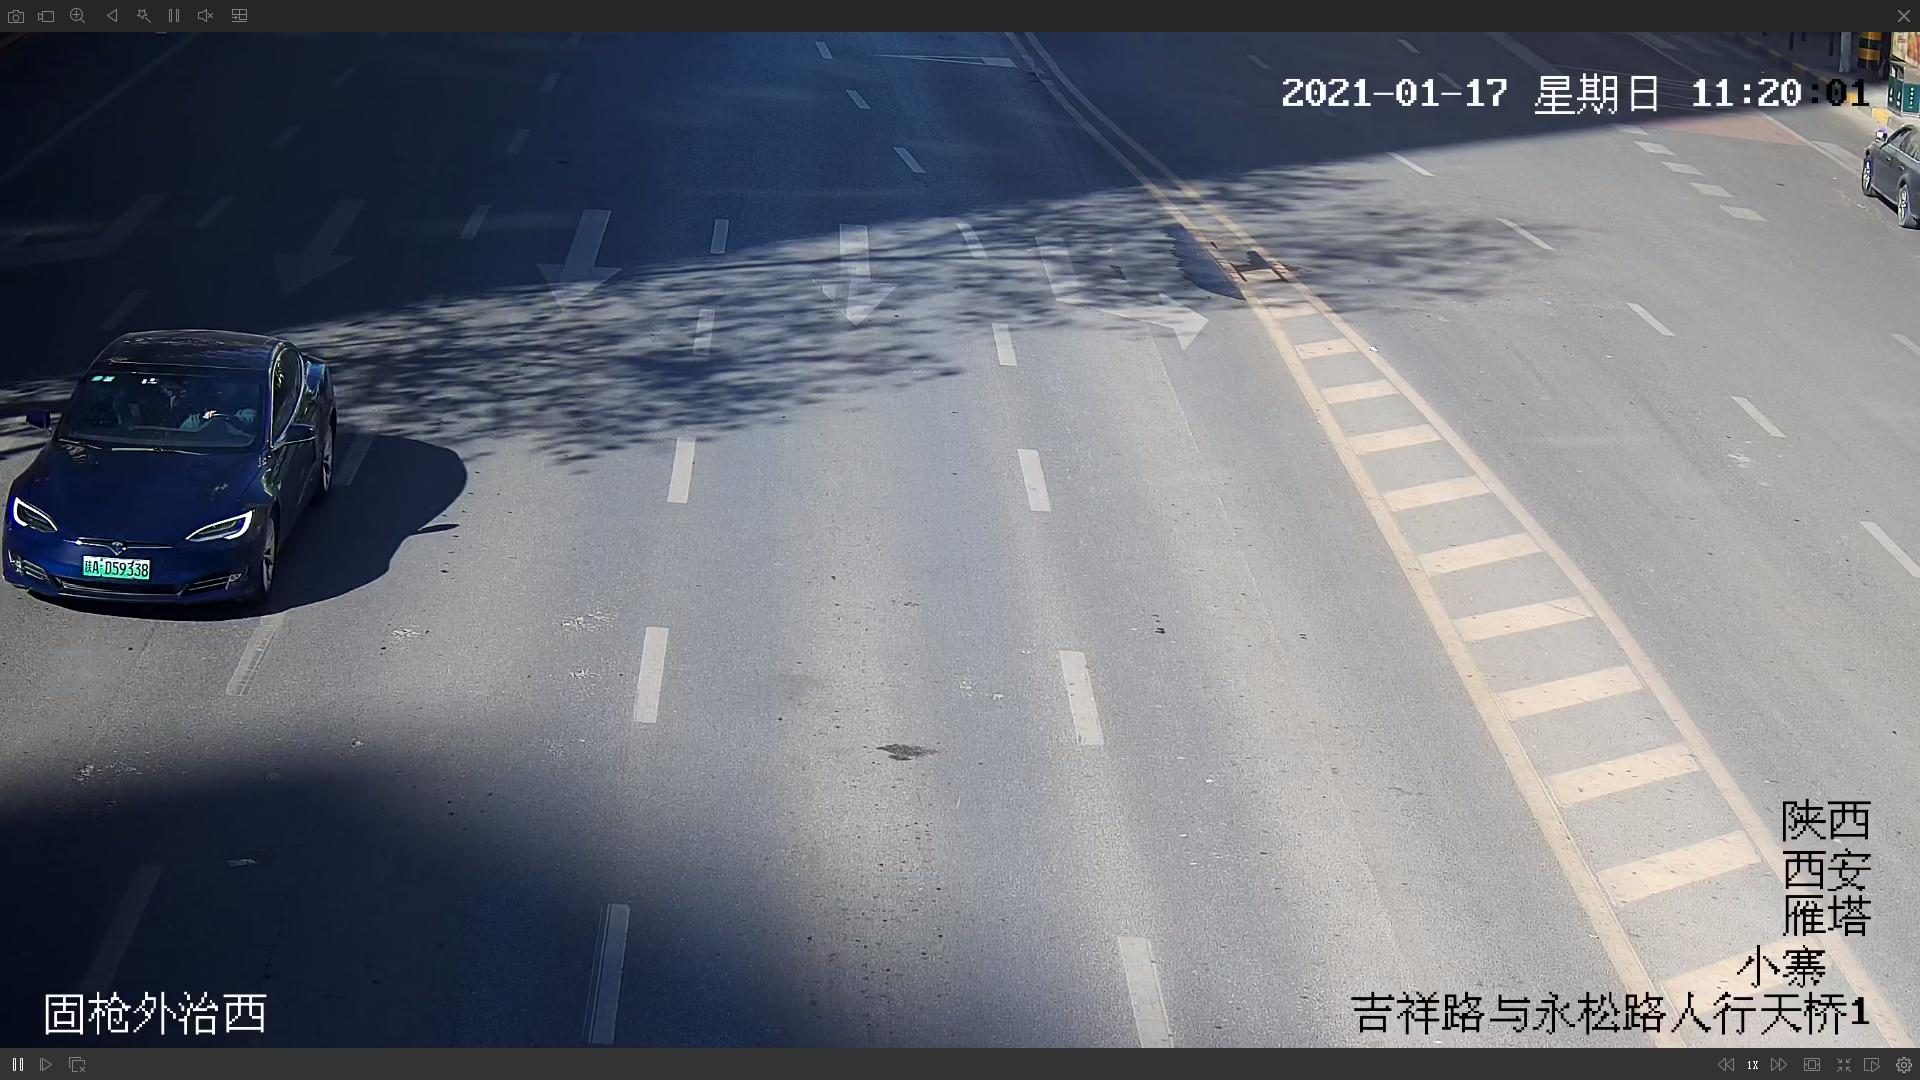dark-blue: (8, 331, 340, 615)
